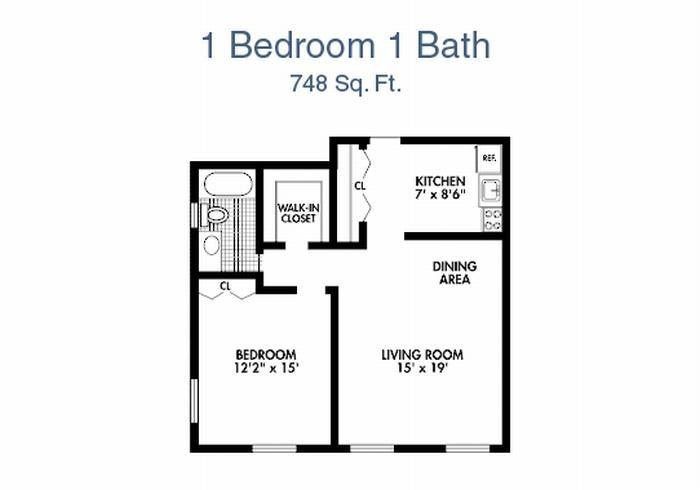wall: (190, 160, 199, 453), (502, 136, 510, 452), (191, 445, 511, 452), (330, 137, 337, 452), (330, 137, 510, 145), (189, 160, 339, 169), (256, 161, 264, 294), (359, 136, 367, 249), (256, 241, 367, 249), (404, 232, 510, 240), (255, 286, 338, 294), (190, 272, 263, 279)
